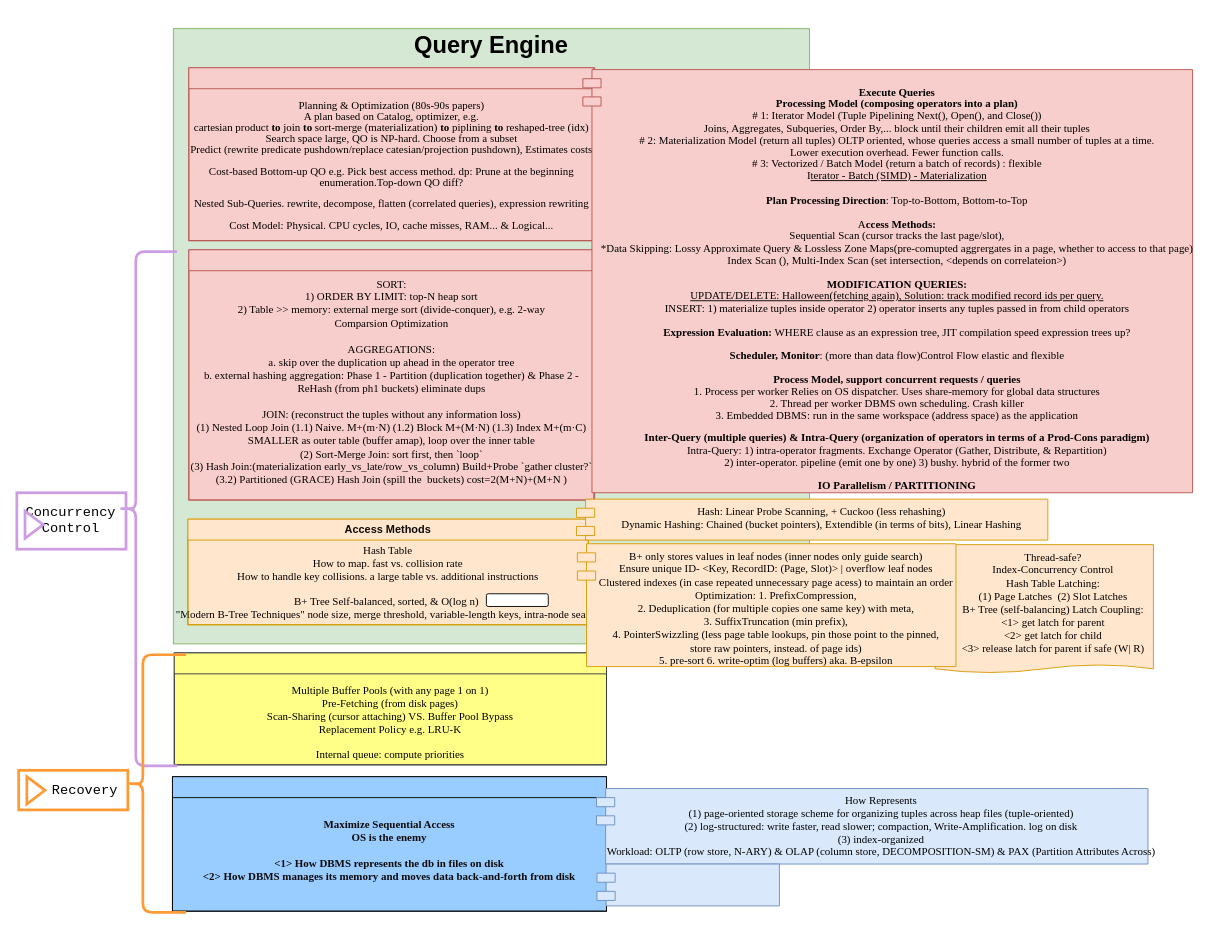
The diagram is 1208 pixels wide and 929 high, and some of its shapes have lost their labels. Each missing label, with the centre of its shape:
BPlusTree.html: the point at 516,600
Buffer Pool Manager - CACHE: the point at 390,708
Disk Manager - DATABASE STORAGE: the point at 389,843
How Manages Buffer Pool Manager: the point at 687,884
Operator Execution: the point at 391,374
Query Planning (in a tree): the point at 391,154
